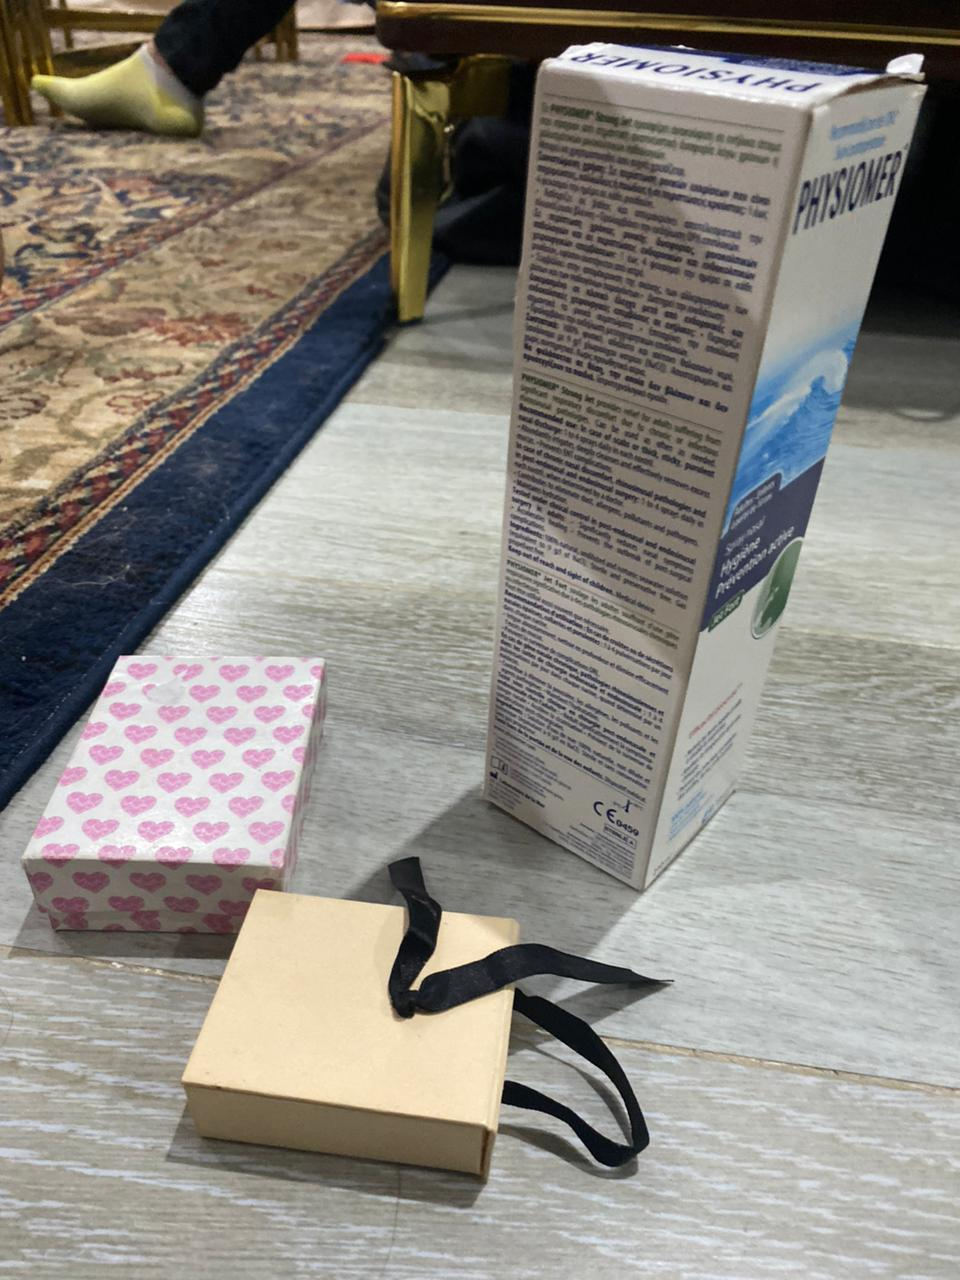Physiomer: (475, 31, 931, 894)
Pink Box: (21, 646, 334, 935)
Yellow Box: (175, 890, 525, 1194)
